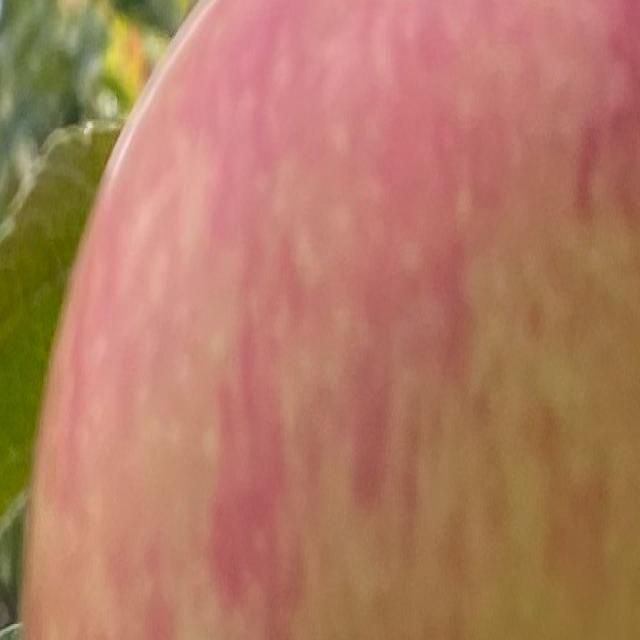Apples: (22, 0, 639, 638)
